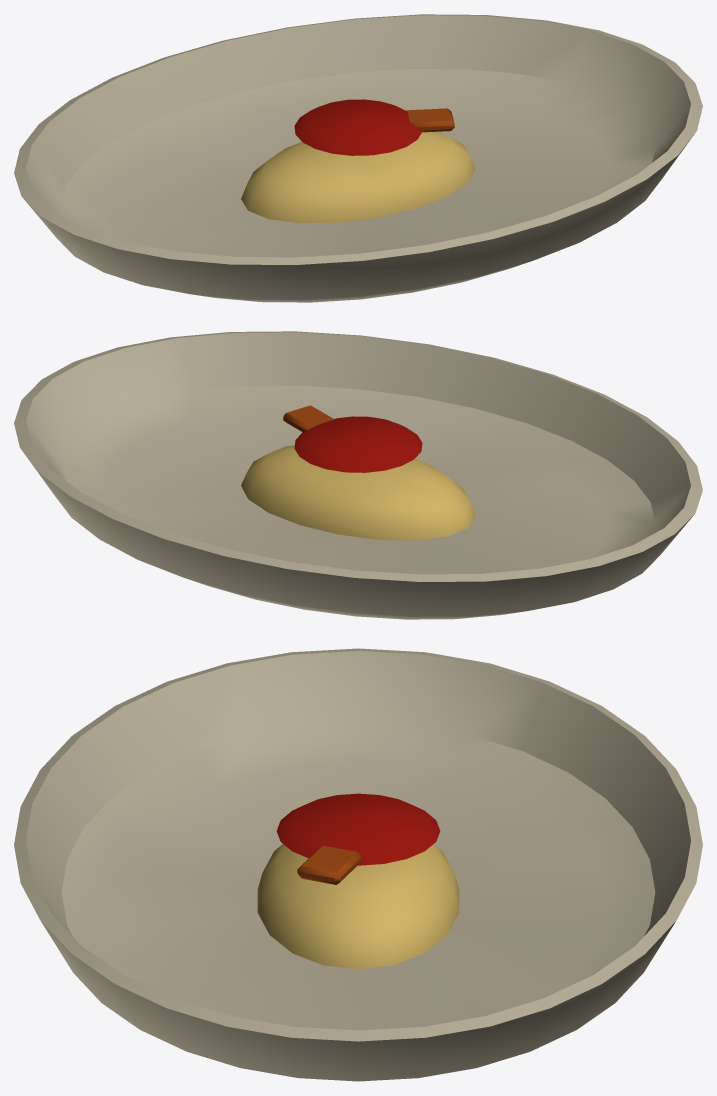
Rendered from food-baked-pork-rice-s2.glb.
3 views of the same model, one above another, from view 1: azimuth 30°, elevation 25°; view 2: azimuth 150°, elevation 25°; view 3: azimuth 270°, elevation 25° (orthographic). The views are drawn at different scales.
Parts seen in each view (by area): view 1: dish__ceramic, rice__food, sauce__sauce, cheese__food; view 2: dish__ceramic, rice__food, sauce__sauce, cheese__food; view 3: dish__ceramic, rice__food, sauce__sauce, cheese__food.
Boxes of the visible parts, box(x1,y1,x2,y2) form: dish__ceramic: box(14, 14, 702, 302); rice__food: box(241, 131, 475, 223); sauce__sauce: box(294, 99, 422, 155); cheese__food: box(406, 108, 454, 132); dish__ceramic: box(14, 331, 702, 619); rice__food: box(241, 445, 475, 540); sauce__sauce: box(294, 416, 422, 472); cheese__food: box(283, 405, 334, 431); dish__ceramic: box(14, 648, 702, 1081); rice__food: box(257, 844, 459, 969); sauce__sauce: box(276, 793, 440, 865); cheese__food: box(297, 845, 361, 884).
Size of the model in its own units: 0.3915 by 0.0535 by 0.29.
